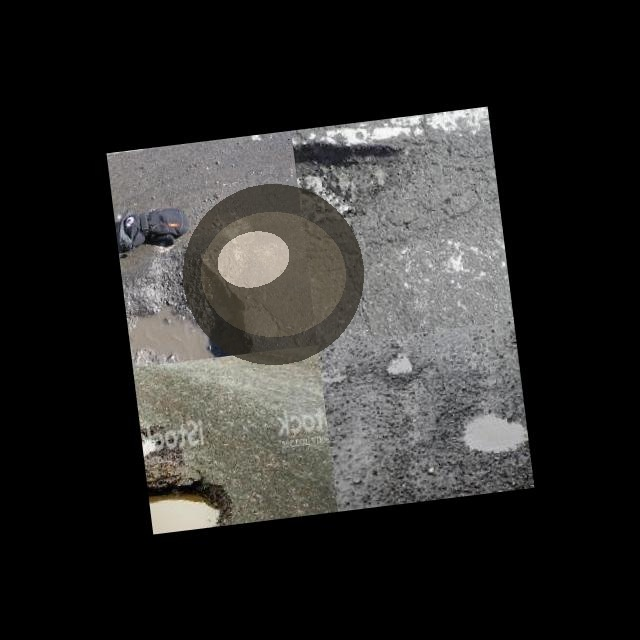waterlogging: (173, 174, 373, 374)
